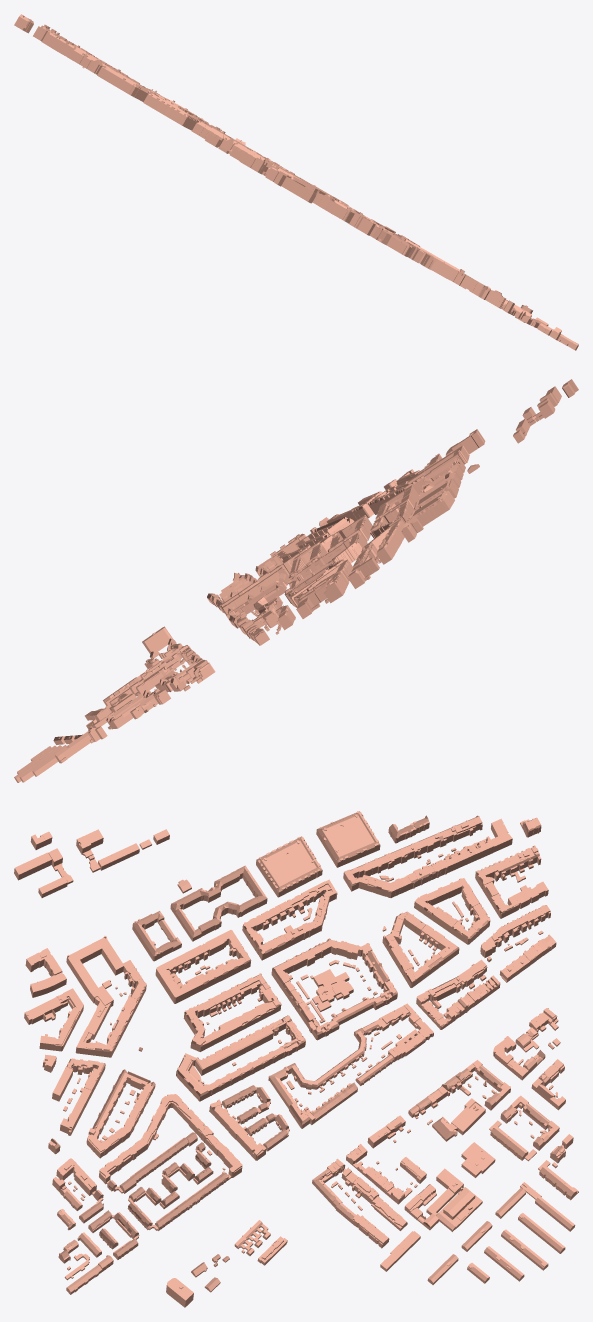
3 views of the same model, one above another, from view 1: azimuth 30°, elevation 25°; view 2: azimuth 150°, elevation 25°; view 3: azimuth 270°, elevation 25° (orthographic). The views are drawn at different scales.
Bounding box in the file's own units: 1.76e+07 × 1.32e+07 × 2.16e+07.
